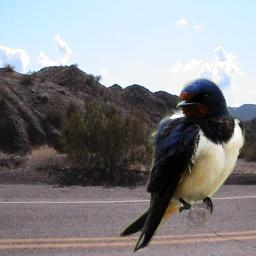Swallow: (118, 77, 246, 256)
